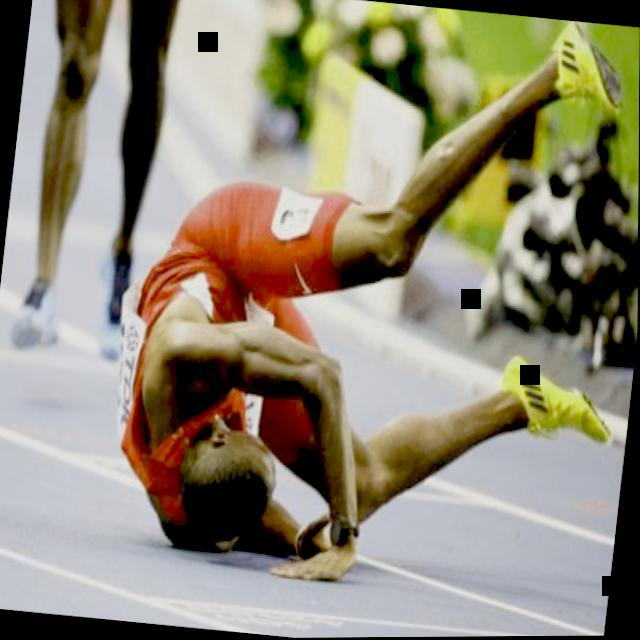Fall-Detected: (91, 0, 636, 595)
